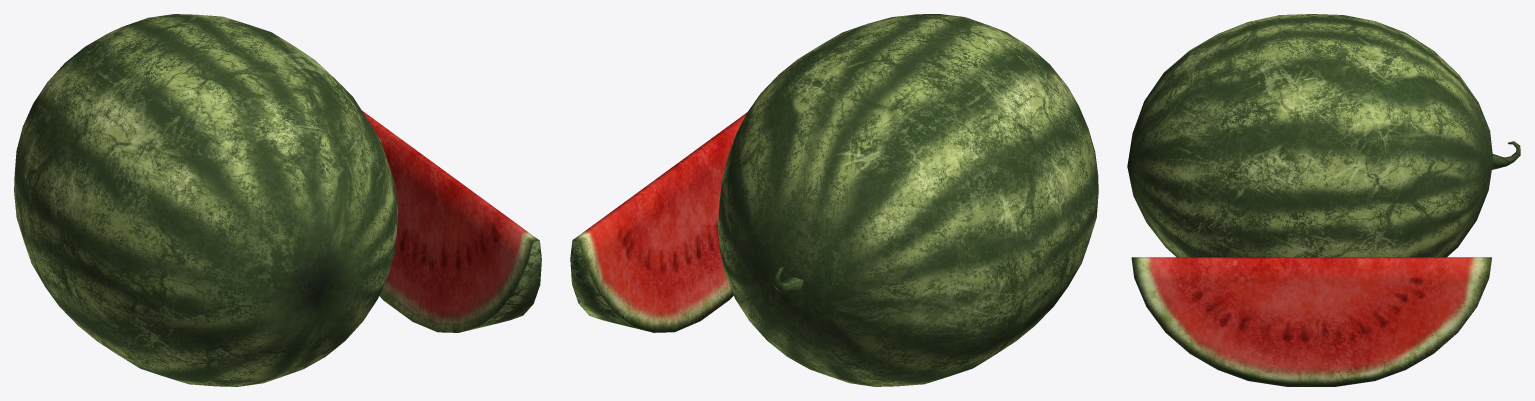
Rendered from Watermelon.fbx.
3 renders of one model, left to right at view 1: azimuth 30°, elevation 25°; view 2: azimuth 150°, elevation 25°; view 3: azimuth 270°, elevation 25°, orthographic. The views are drawn at different scales.
Parts seen in each view (by area): view 1: Fruit_Watermelon, Fruit_Watermelon_piece; view 2: Fruit_Watermelon, Fruit_Watermelon_piece; view 3: Fruit_Watermelon, Fruit_Watermelon_piece.
Part boxes in pixels (box(x1,y1,x2,y2)): Fruit_Watermelon: box(14, 14, 397, 386); Fruit_Watermelon_piece: box(362, 110, 541, 332); Fruit_Watermelon: box(718, 14, 1098, 386); Fruit_Watermelon_piece: box(570, 112, 747, 332); Fruit_Watermelon: box(1127, 14, 1520, 257); Fruit_Watermelon_piece: box(1131, 257, 1491, 386).
Bounding box in the file's own units: 52.31 × 40 × 54.09.
1 material, 1 textured.
